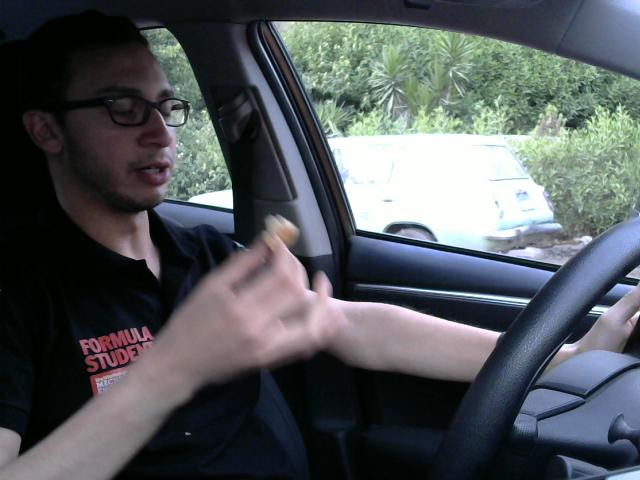Eating: (253, 206, 304, 254)
